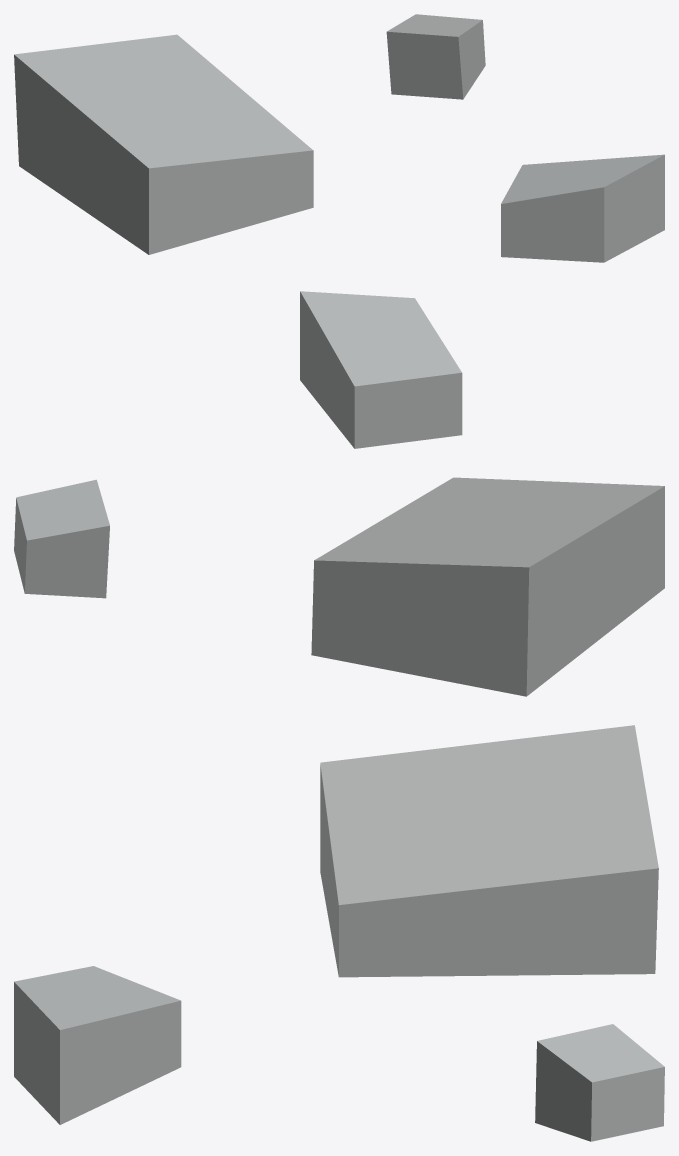
Rendered from Rock_Blocks_s_04.fbx.
3 views of the same model, one above another, from view 1: azimuth 30°, elevation 25°; view 2: azimuth 150°, elevation 25°; view 3: azimuth 270°, elevation 25° (orthographic). The views are drawn at different scales.
Visible parts, largest first — view 1: Rock_Blocks_s_04; view 2: Rock_Blocks_s_04; view 3: Rock_Blocks_s_04.
Boxes of the visible parts, x1,y1,x2,y2 form: Rock_Blocks_s_04: [14, 14, 664, 262]; Rock_Blocks_s_04: [14, 291, 664, 696]; Rock_Blocks_s_04: [14, 725, 664, 1141].
Size of the model in its own units: 37.21 by 9.62 by 36.69.
